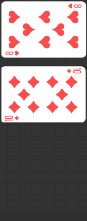10D: (4, 114, 21, 121)
8H: (5, 49, 21, 56)
